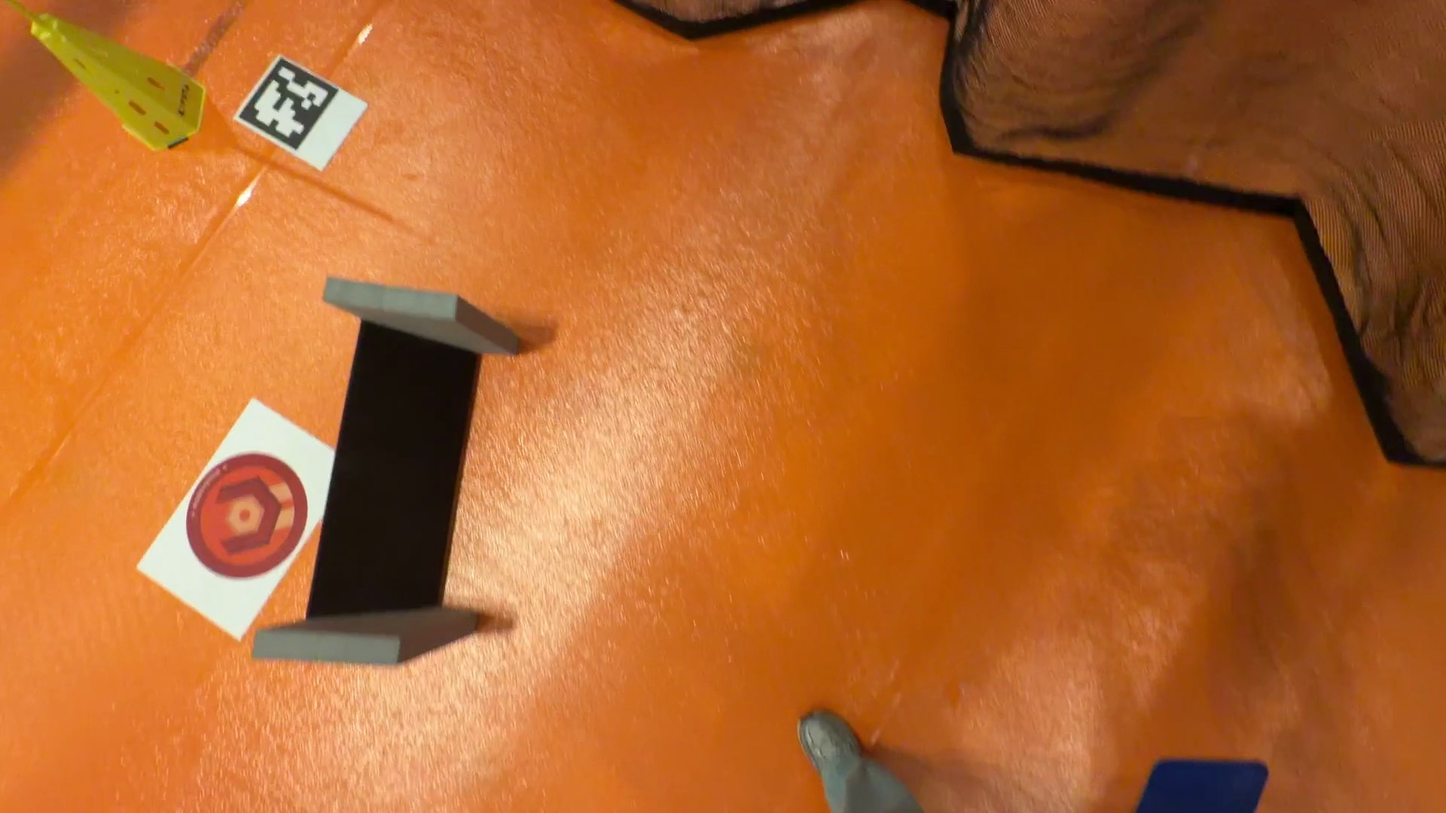landing_pad: (183, 453, 308, 576)
